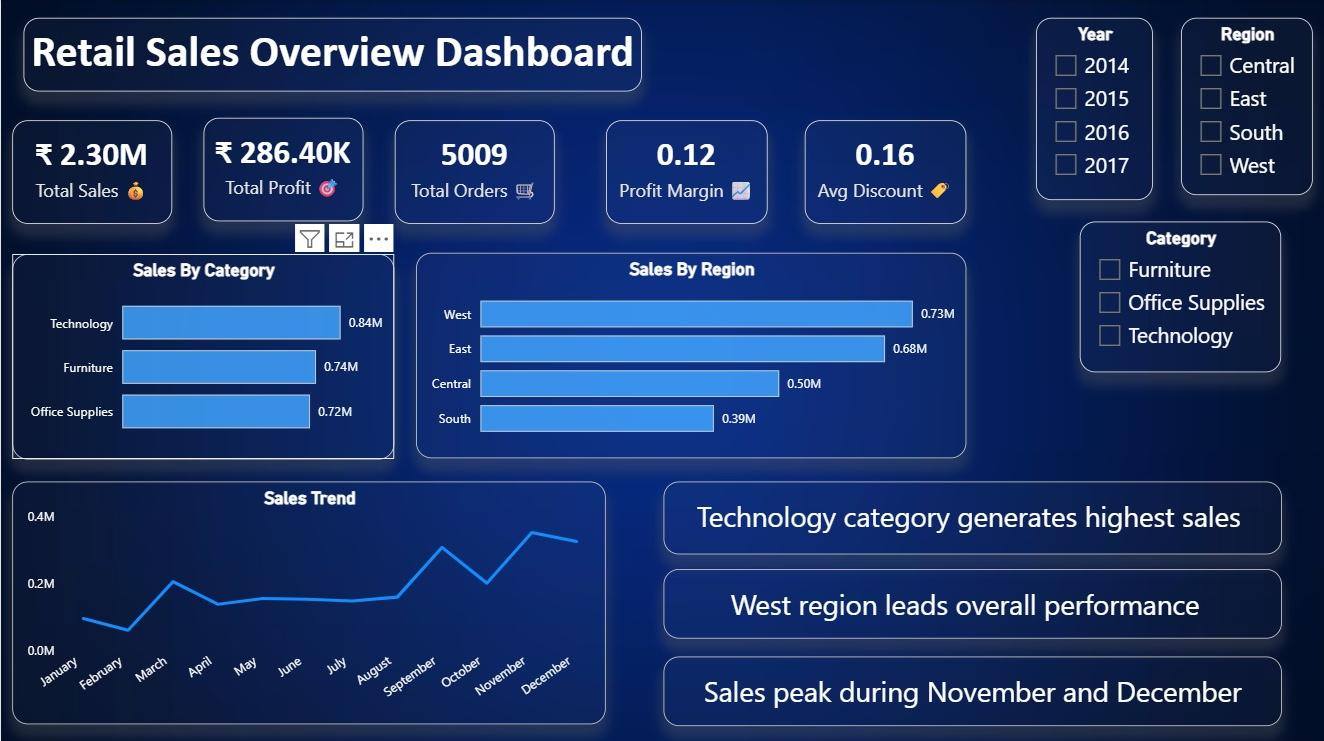

What the dashboard file says about the page in this screenshot:
{"tool":"powerbi","page":{"name":"Overview Dashboard","canvas":[1280,720],"ordinal":0},"visuals":[{"type":"card","fields":{"Values":["Customer Table.Total Sales"]},"box":[11.4,117.1,154.3,100],"z":0},{"type":"card","fields":{"Values":["Customer Table.Total Orders"]},"box":[380,117.1,154.3,100],"z":1000},{"type":"card","fields":{"Values":["Customer Table.Avg Discount"]},"box":[775.7,117.1,155.7,100],"z":2000},{"type":"card","fields":{"Values":["Customer Table.Profit Margin"]},"box":[584.3,117.1,155.7,100],"z":3000},{"type":"card","fields":{"Values":["Customer Table.Total Profit"]},"box":[195.7,114.3,154.3,100],"z":4000},{"type":"textbox","box":[21.4,18.6,597.1,71.4],"z":5000},{"type":"barChart","title":"Sales By Category","fields":{"Y":["Sum(Sample - Superstore.Sales)"],"Category":["Sample - Superstore.Category"]},"box":[11.4,245.7,368.6,198.6],"z":6000},{"type":"clusteredBarChart","title":"Sales By Region","fields":{"Y":["Sum(Sample - Superstore.Sales)"],"Category":["Sample - Superstore.Region"]},"box":[400,244.6,531.3,198.8],"z":7000},{"type":"lineChart","title":"Sales Trend","fields":{"Y":["Sum(Sample - Superstore.Sales)"],"Category":["Sample - Superstore.Month"]},"box":[11.4,465.7,572.9,234.3],"z":8000},{"type":"slicer","title":"Year ","fields":{"Values":["Sample - Superstore.Year"]},"box":[998.6,18.6,112.9,175.7],"z":9000},{"type":"slicer","title":"Region","fields":{"Values":["Sample - Superstore.Region"]},"box":[1138.6,18.6,127.1,171.4],"z":10000},{"type":"slicer","title":"Category","fields":{"Values":["Product Table.Category"]},"box":[1041.4,214.3,194.3,145.7],"z":11000},{"type":"textbox","box":[640,465.7,597.1,70],"z":12000},{"type":"textbox","box":[640,550,597.1,67.1],"z":13000},{"type":"textbox","box":[640,634.3,597.1,67.1],"z":14000}]}

Visuals, with their boxes in screenshot pixels (x1, y1, x2, y2), scaled from the page's 1280x720 canvas onto the 1324x741 screenshot:
card - Customer Table.Total Sales: {"left": 12, "top": 121, "right": 171, "bottom": 223}
card - Customer Table.Total Orders: {"left": 393, "top": 121, "right": 553, "bottom": 223}
card - Customer Table.Avg Discount: {"left": 802, "top": 121, "right": 963, "bottom": 223}
card - Customer Table.Profit Margin: {"left": 604, "top": 121, "right": 765, "bottom": 223}
card - Customer Table.Total Profit: {"left": 202, "top": 118, "right": 362, "bottom": 221}
textbox: {"left": 22, "top": 19, "right": 640, "bottom": 93}
"Sales By Category" barChart: {"left": 12, "top": 253, "right": 393, "bottom": 457}
"Sales By Region" clusteredBarChart: {"left": 414, "top": 252, "right": 963, "bottom": 456}
"Sales Trend" lineChart: {"left": 12, "top": 479, "right": 604, "bottom": 720}
"Year " slicer: {"left": 1033, "top": 19, "right": 1150, "bottom": 200}
"Region" slicer: {"left": 1178, "top": 19, "right": 1309, "bottom": 196}
"Category" slicer: {"left": 1077, "top": 221, "right": 1278, "bottom": 370}
textbox: {"left": 662, "top": 479, "right": 1280, "bottom": 551}
textbox: {"left": 662, "top": 566, "right": 1280, "bottom": 635}
textbox: {"left": 662, "top": 653, "right": 1280, "bottom": 722}
